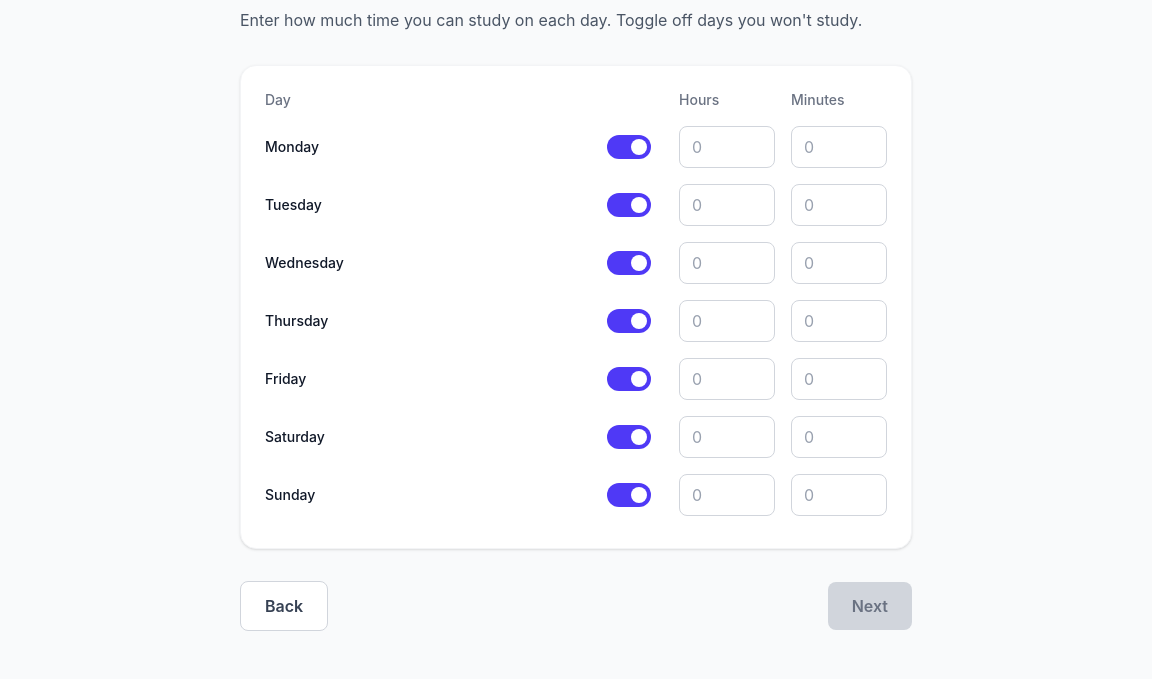
Test case: WeeklySchedulePage › navigates back to assessment details on Back click
(page scrolled)
Step 1. Click the link "Back" → {"x": 284, "y": 606}, box [240, 581, 328, 631]
(page scrolled)
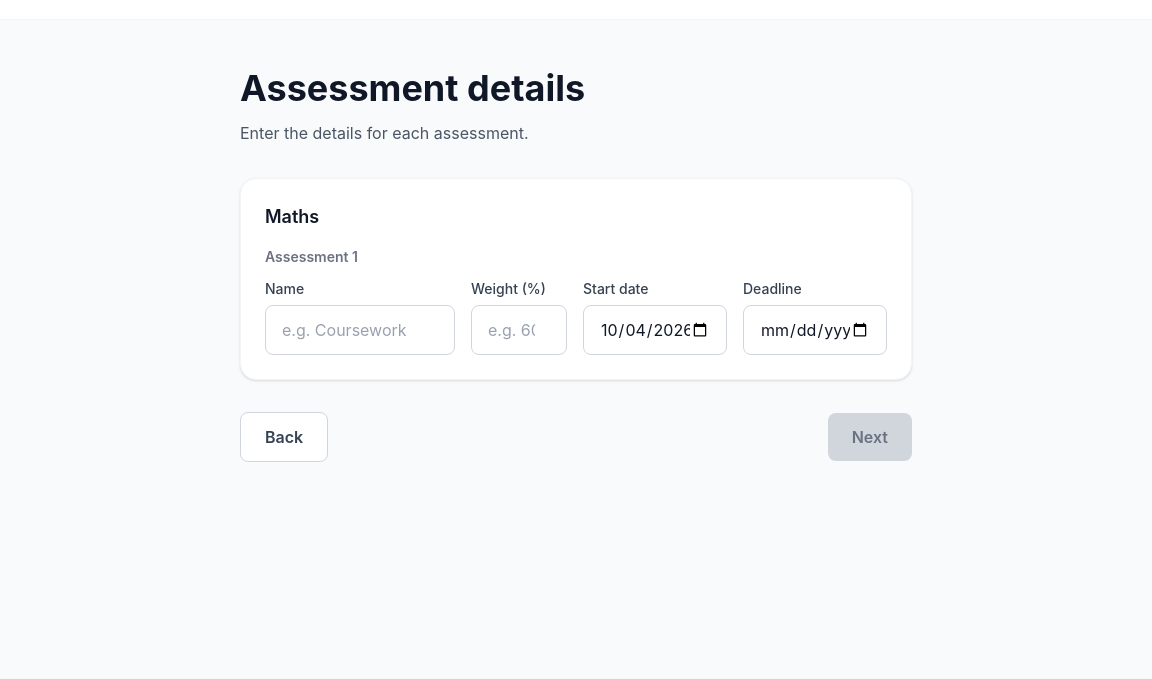
Expected: the heading "Assessment details" is shown, [240, 66, 585, 110]
